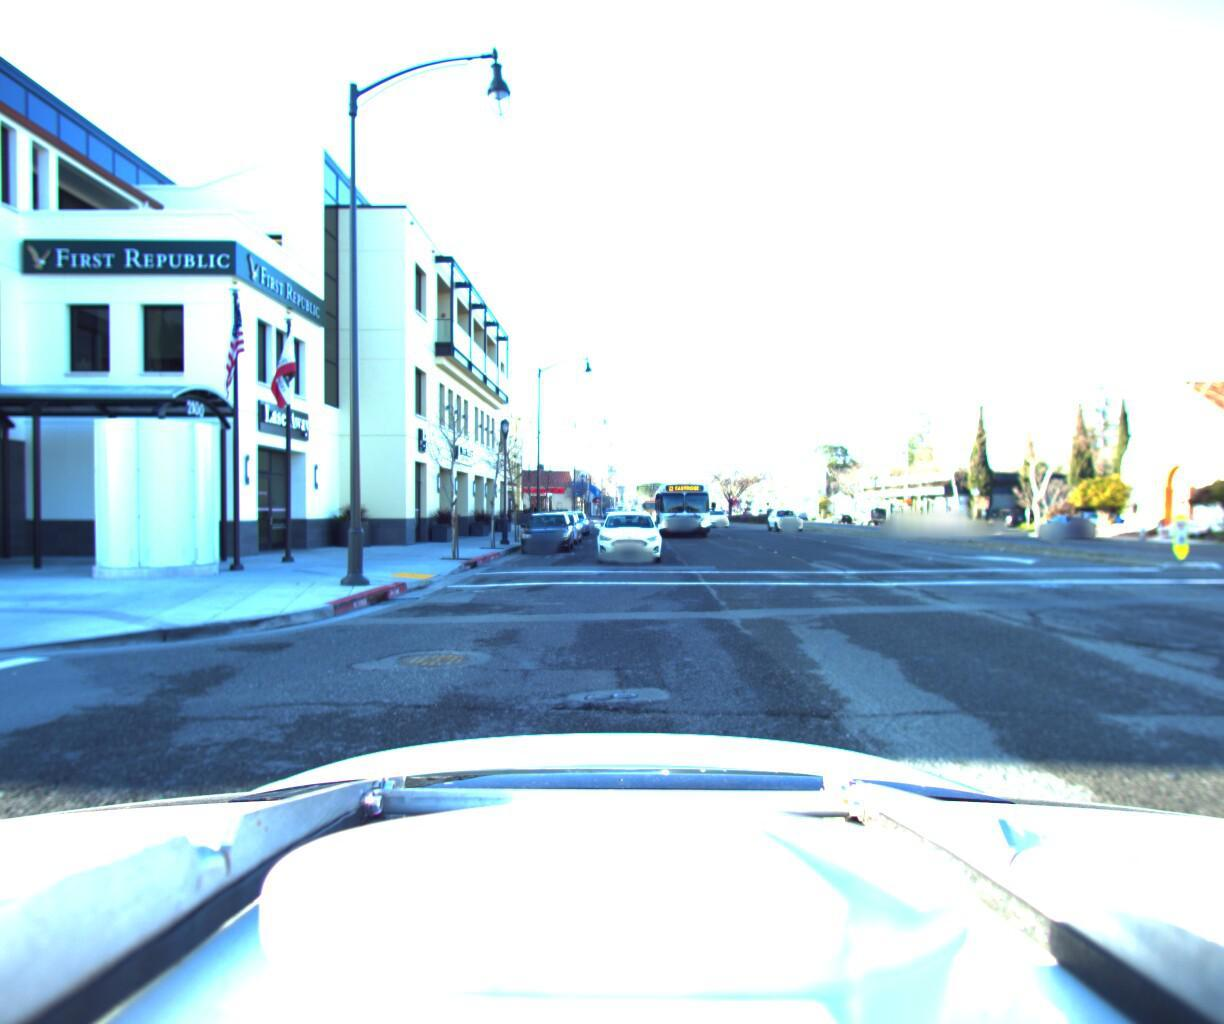bus: (650, 466, 719, 538)
car: (594, 500, 664, 563), (518, 503, 575, 552), (1029, 507, 1099, 533), (535, 504, 582, 541), (764, 497, 808, 525), (981, 501, 1031, 521), (556, 503, 589, 532), (702, 500, 733, 521)
